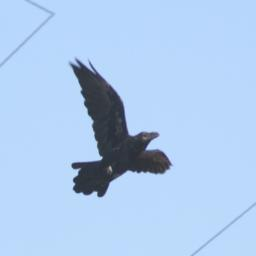Crow: (60, 42, 176, 202)
